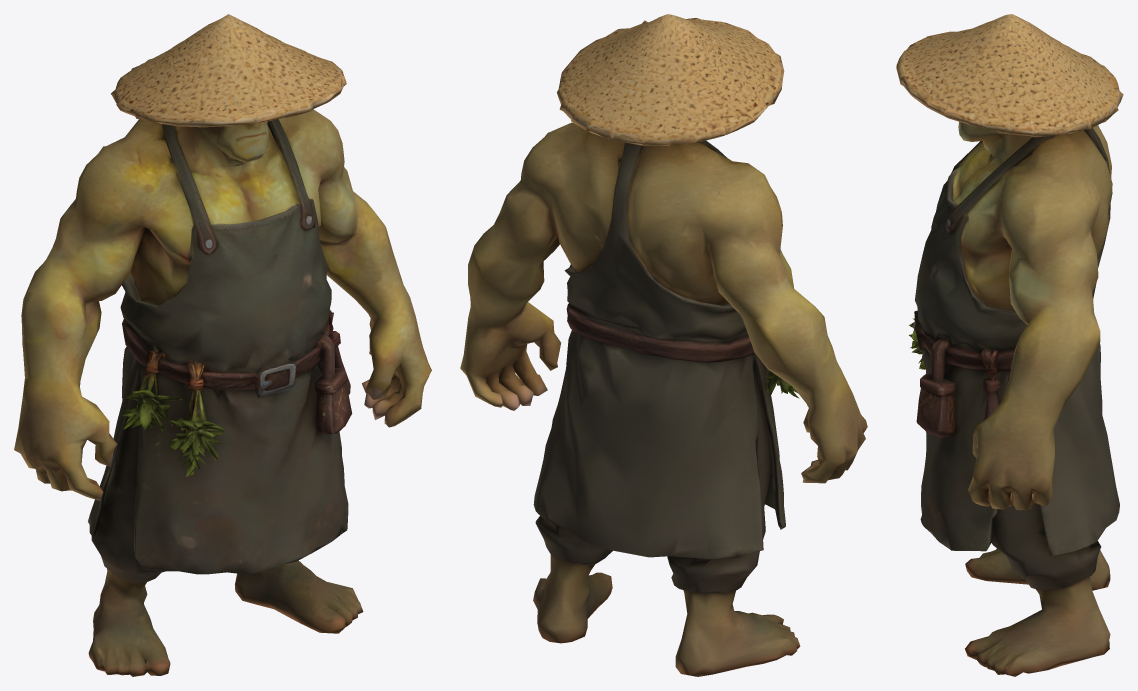
File: bitter.glb
3 renders of one model, left to right at view 1: azimuth 30°, elevation 25°; view 2: azimuth 150°, elevation 25°; view 3: azimuth 270°, elevation 25°, orthographic. The views are drawn at different scales.
Visible parts, largest first — view 1: tripo_node_f64c4d38-feae-4343-a8bb-916cd1027814; view 2: tripo_node_f64c4d38-feae-4343-a8bb-916cd1027814; view 3: tripo_node_f64c4d38-feae-4343-a8bb-916cd1027814.
Boxes of the visible parts, box(x1,y1,x2,y2) form: tripo_node_f64c4d38-feae-4343-a8bb-916cd1027814: box(14, 14, 431, 676); tripo_node_f64c4d38-feae-4343-a8bb-916cd1027814: box(460, 14, 867, 676); tripo_node_f64c4d38-feae-4343-a8bb-916cd1027814: box(896, 14, 1123, 676).
Bounding box in the file's own units: 0.6585 × 1 × 0.3409.
1 material, 1 textured.
